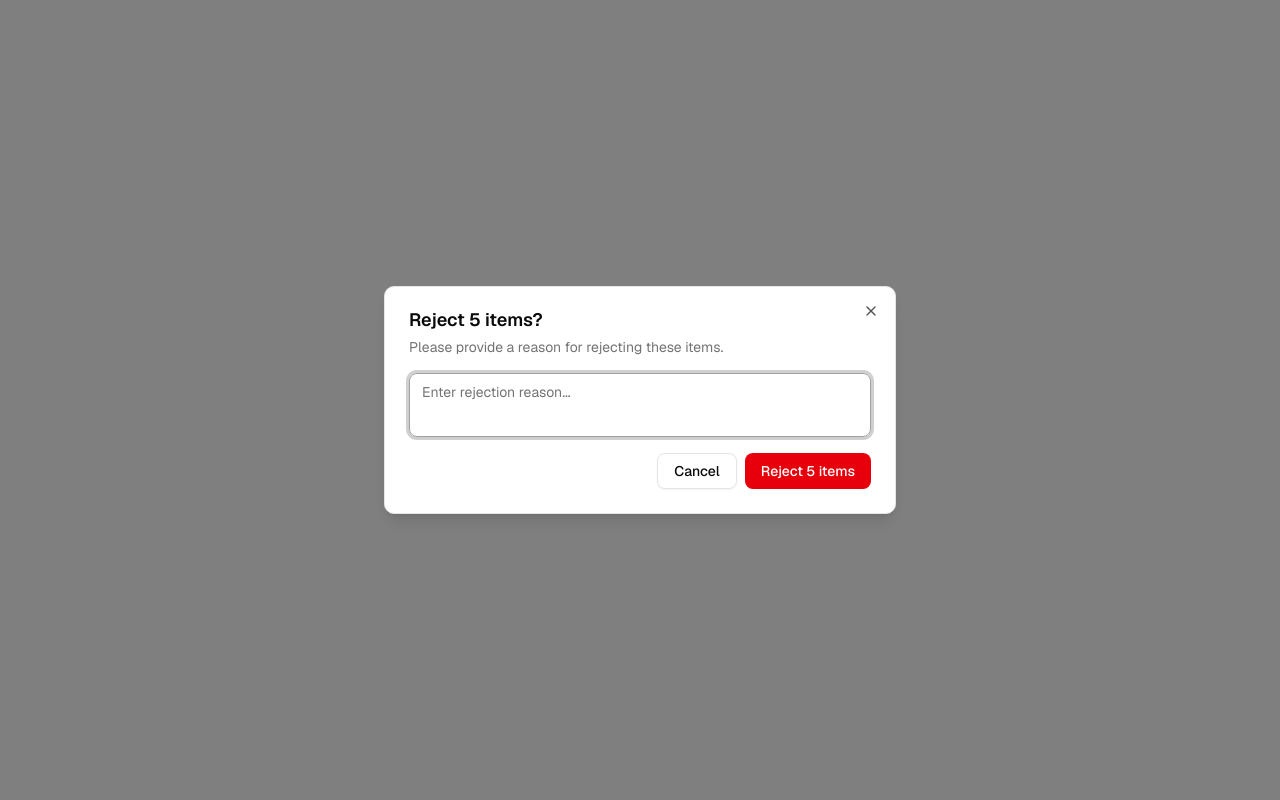
Test case: RejectReasonDialog › should show error when reason is too short
In the text box with placeholder "Enter rejection reason...": (640, 405) [409,373,871,437], type "Test"
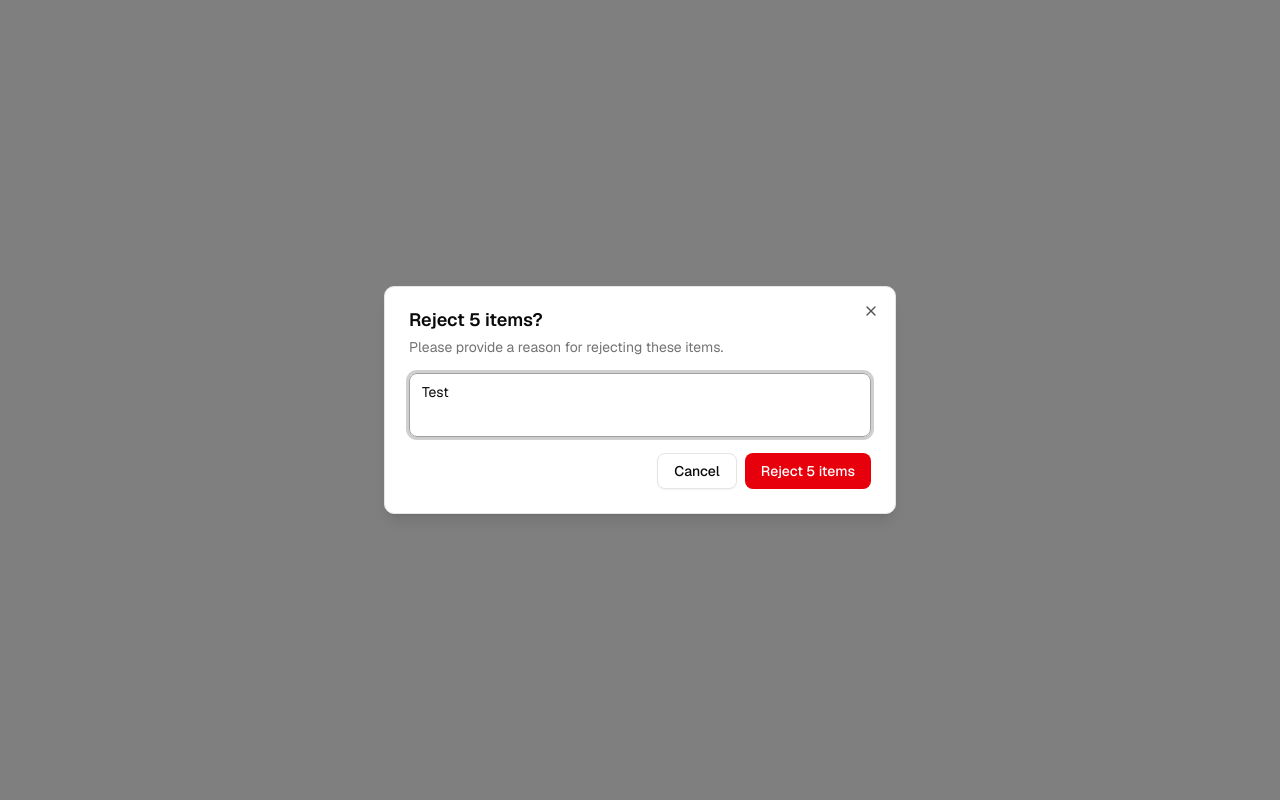
Click the button "Reject 5 items": click(808, 471) [745,453,871,489]
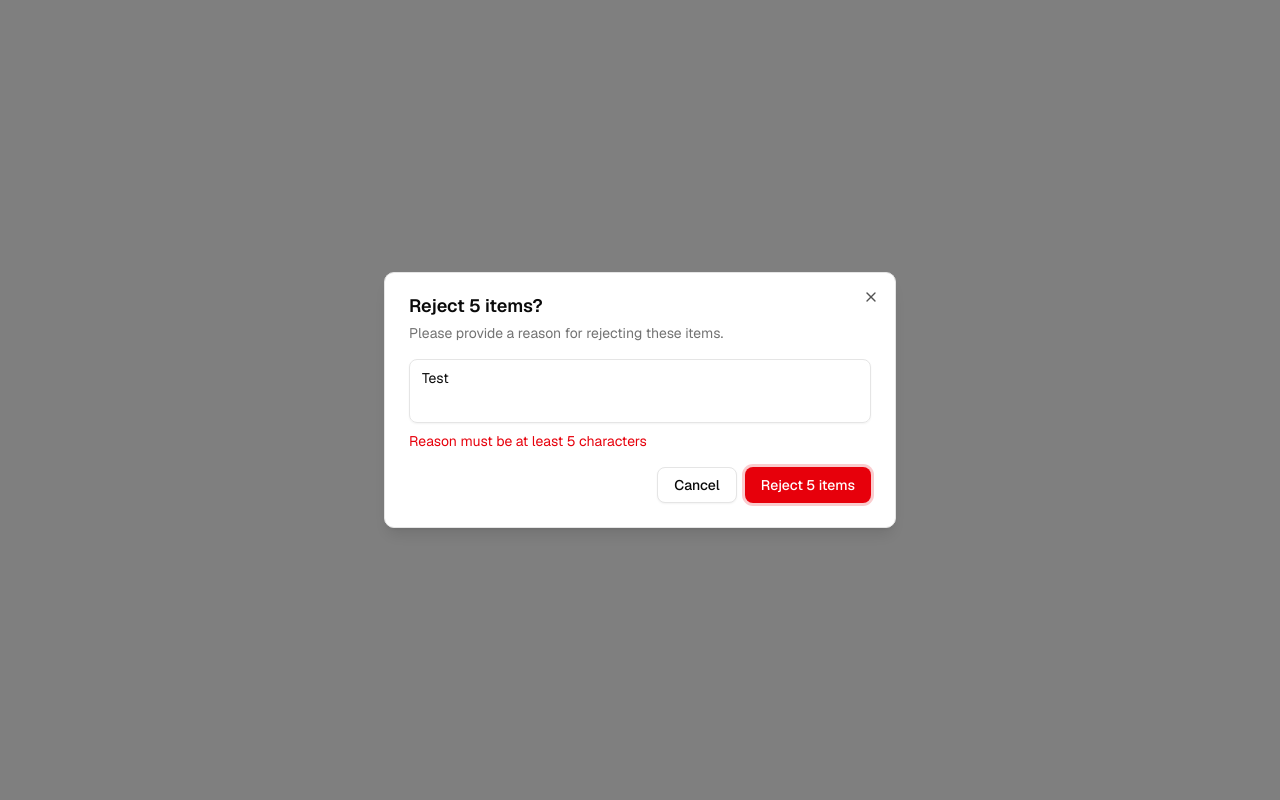
Now the text "Reason must be at least 5 characters" is shown, box [409,432,647,450]
